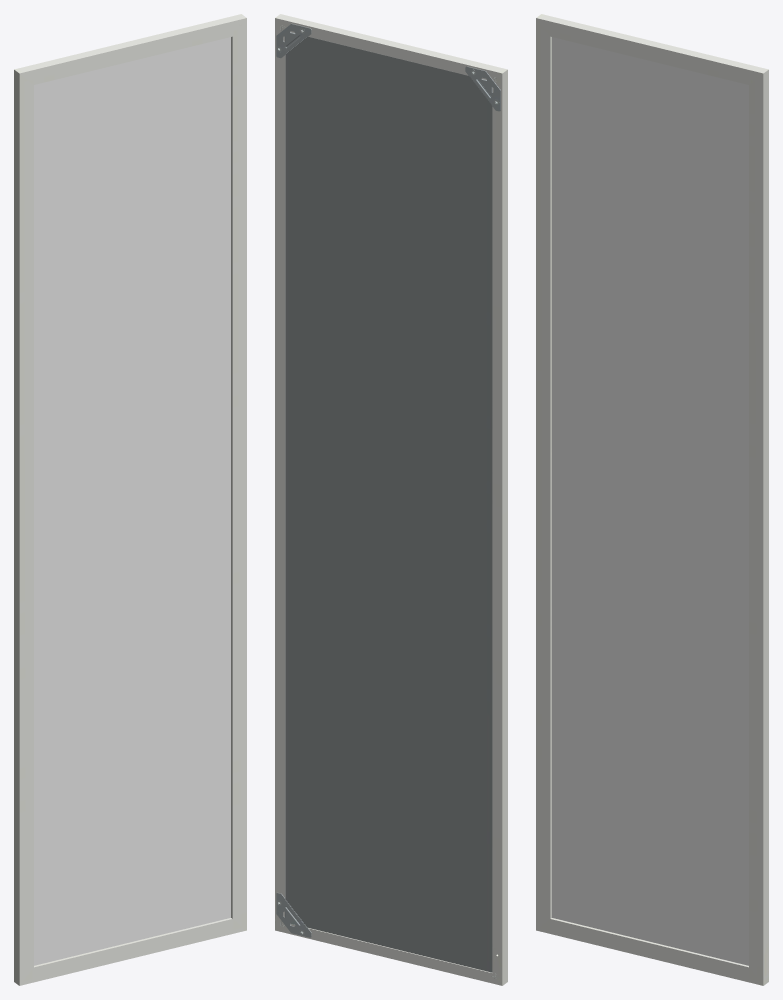
Rendered from liljetrad_lustro_20592100.glb.
3 renders of one model, left to right at view 1: azimuth 30°, elevation 25°; view 2: azimuth 150°, elevation 25°; view 3: azimuth 330°, elevation 25°, orthographic.
Visible parts, largest first — view 1: liljetrad_lustro_20592100; view 2: liljetrad_lustro_20592100; view 3: liljetrad_lustro_20592100.
Part boxes in pixels (<box>): liljetrad_lustro_20592100: <box>14,14,246,985</box>; liljetrad_lustro_20592100: <box>275,14,507,985</box>; liljetrad_lustro_20592100: <box>536,14,768,985</box>.
Size of the model in its own units: 0.3 by 1.15 by 0.0145.
2 materials, 2 textured.
